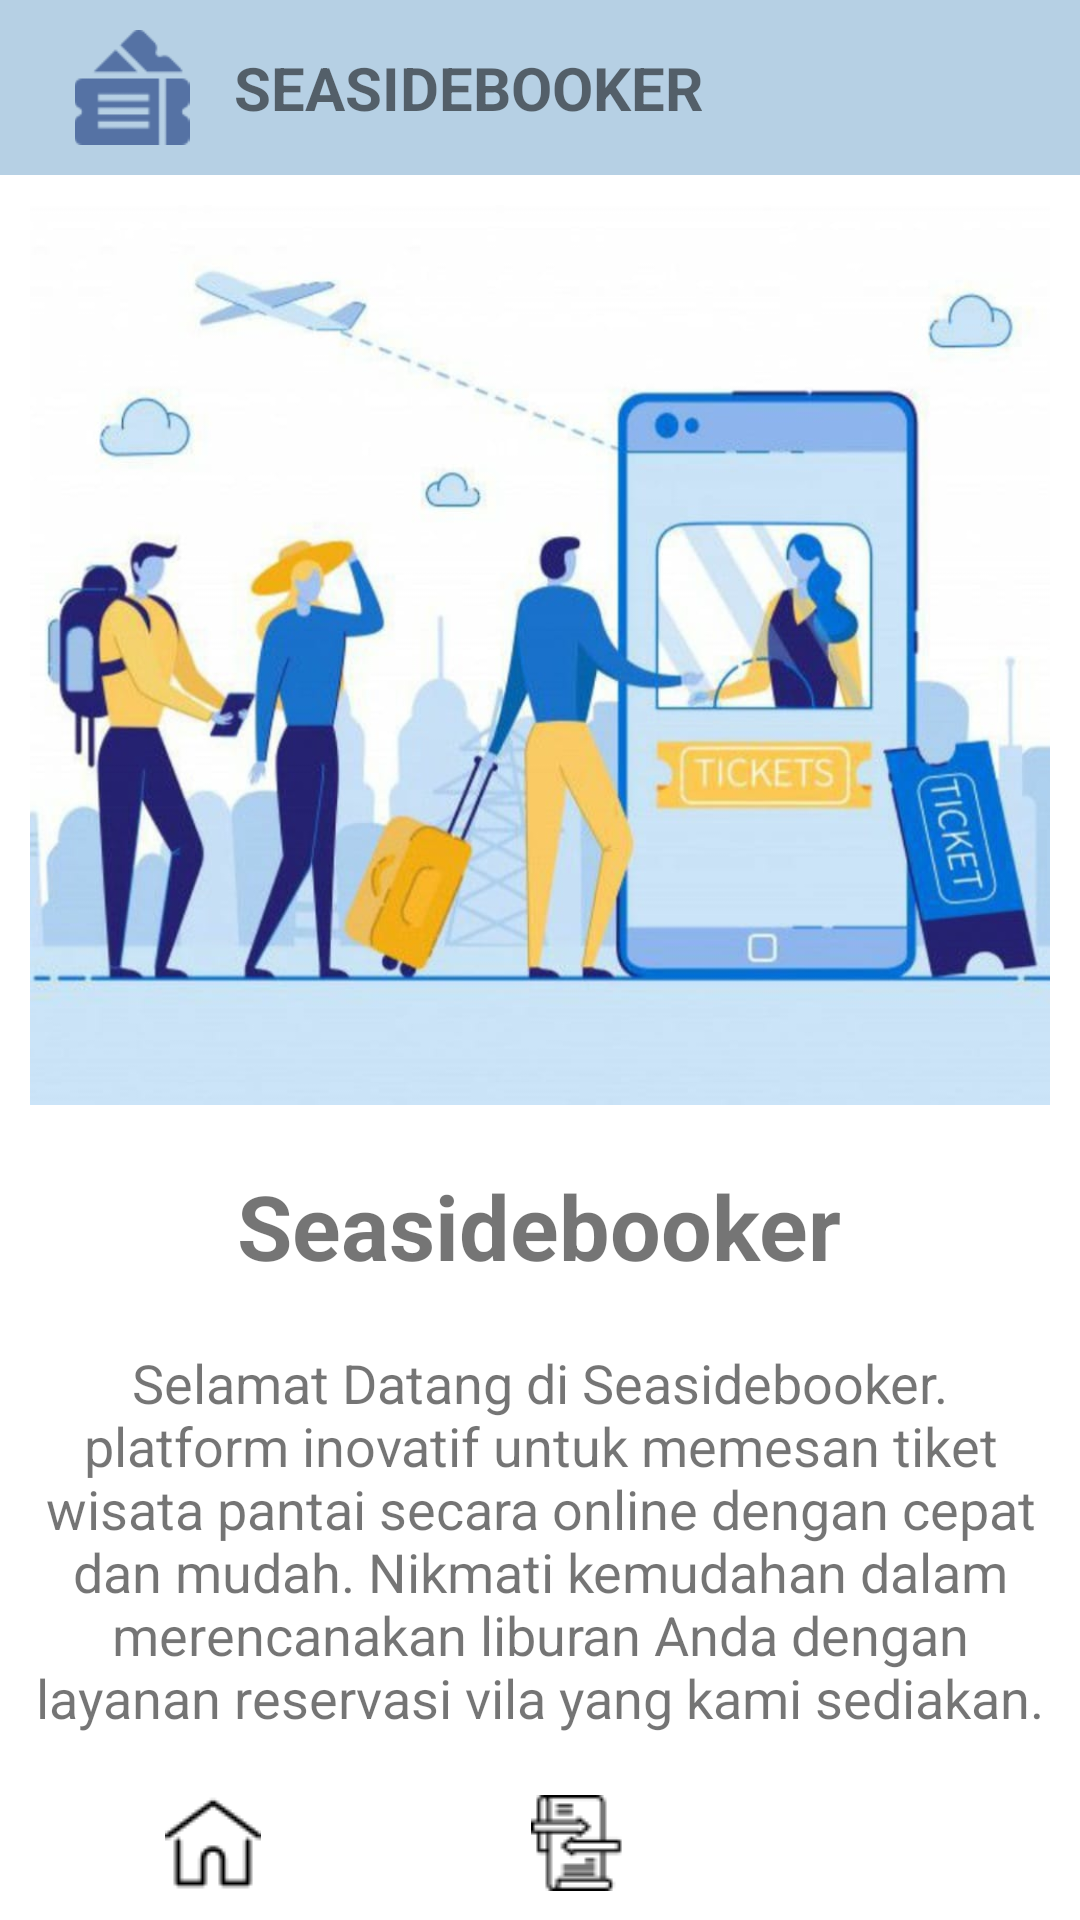

Screen size 1080 × 1920. Icon name, then its center in pixels as [x,y]:
home: [213,1843]
transaction: [576,1843]
